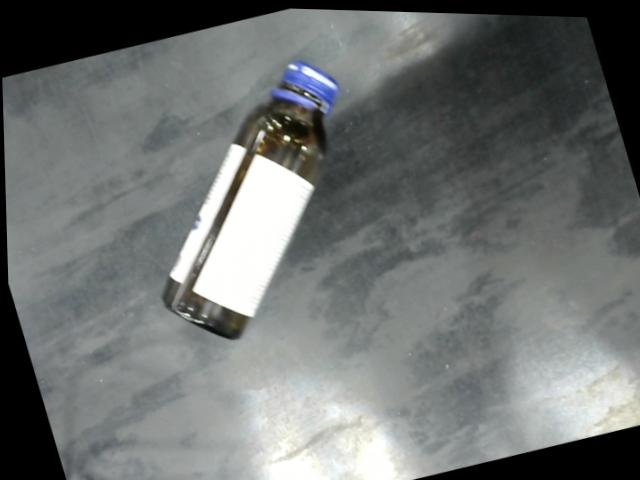glass: (160, 51, 341, 343)
